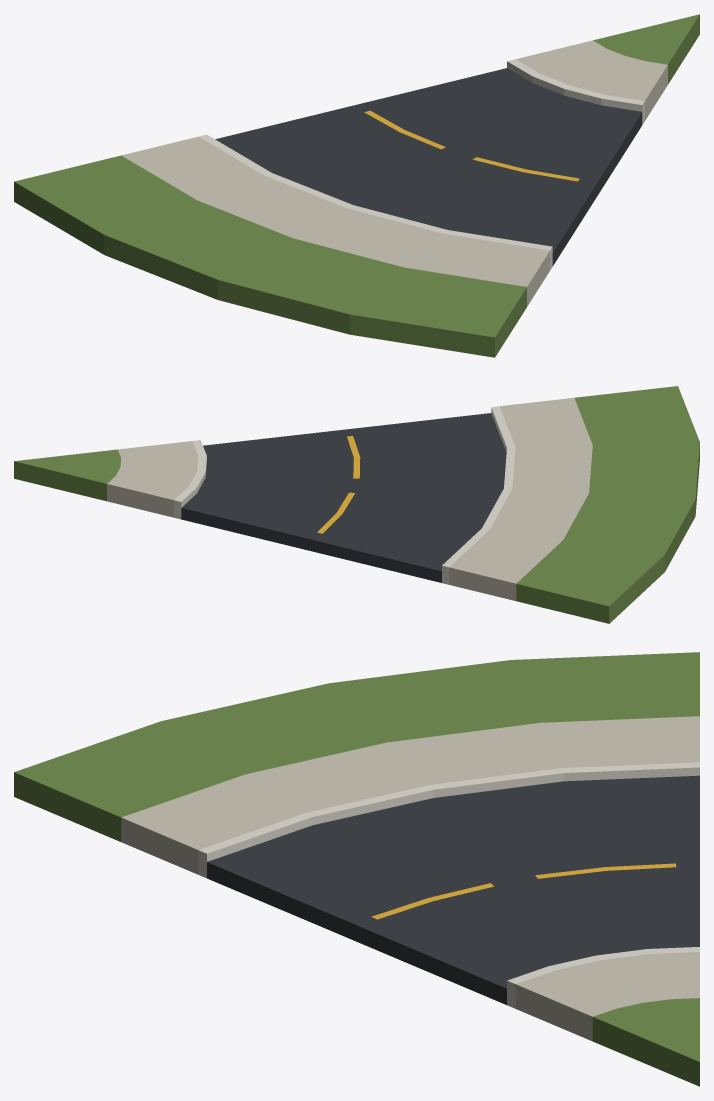
File: Road_2Lane_Sidewalk_Curve45_L.glb
The picture shows the model from 3 angles, top to bottom: view 1: azimuth 30°, elevation 25°; view 2: azimuth 150°, elevation 25°; view 3: azimuth 270°, elevation 25°; orthographic projection. The views are drawn at different scales.
Parts seen in each view (by area): view 1: Road_2Lane_Sidewalk_Curve45_L_Asphalt, Road_2Lane_Sidewalk_Curve45_L_Grass-edge, Road_2Lane_Sidewalk_Curve45_L_Sidewalk, Road_2Lane_Sidewalk_Curve45_L_Curb, Road_2Lane_Sidewalk_Curve45_L_PaintYellow; view 2: Road_2Lane_Sidewalk_Curve45_L_Asphalt, Road_2Lane_Sidewalk_Curve45_L_Grass-edge, Road_2Lane_Sidewalk_Curve45_L_Sidewalk, Road_2Lane_Sidewalk_Curve45_L_Curb, Road_2Lane_Sidewalk_Curve45_L_PaintYellow; view 3: Road_2Lane_Sidewalk_Curve45_L_Asphalt, Road_2Lane_Sidewalk_Curve45_L_Grass-edge, Road_2Lane_Sidewalk_Curve45_L_Sidewalk, Road_2Lane_Sidewalk_Curve45_L_Curb, Road_2Lane_Sidewalk_Curve45_L_PaintYellow.
Boxes of the visible parts, x1,y1,x2,y2 form: Road_2Lane_Sidewalk_Curve45_L_Asphalt: [215, 68, 642, 266]; Road_2Lane_Sidewalk_Curve45_L_Grass-edge: [14, 14, 699, 357]; Road_2Lane_Sidewalk_Curve45_L_Sidewalk: [121, 40, 667, 306]; Road_2Lane_Sidewalk_Curve45_L_Curb: [199, 59, 644, 270]; Road_2Lane_Sidewalk_Curve45_L_PaintYellow: [364, 110, 579, 181]; Road_2Lane_Sidewalk_Curve45_L_Asphalt: [181, 413, 506, 582]; Road_2Lane_Sidewalk_Curve45_L_Grass-edge: [14, 386, 699, 623]; Road_2Lane_Sidewalk_Curve45_L_Sidewalk: [107, 398, 592, 600]; Road_2Lane_Sidewalk_Curve45_L_Curb: [174, 406, 515, 584]; Road_2Lane_Sidewalk_Curve45_L_PaintYellow: [317, 436, 360, 533]; Road_2Lane_Sidewalk_Curve45_L_Asphalt: [207, 775, 699, 1004]; Road_2Lane_Sidewalk_Curve45_L_Grass-edge: [14, 652, 699, 1086]; Road_2Lane_Sidewalk_Curve45_L_Sidewalk: [121, 716, 699, 1041]; Road_2Lane_Sidewalk_Curve45_L_Curb: [198, 762, 699, 1008]; Road_2Lane_Sidewalk_Curve45_L_PaintYellow: [371, 863, 676, 919].
Bounding box in the file's own units: 16 × 0.45 × 11.31.
